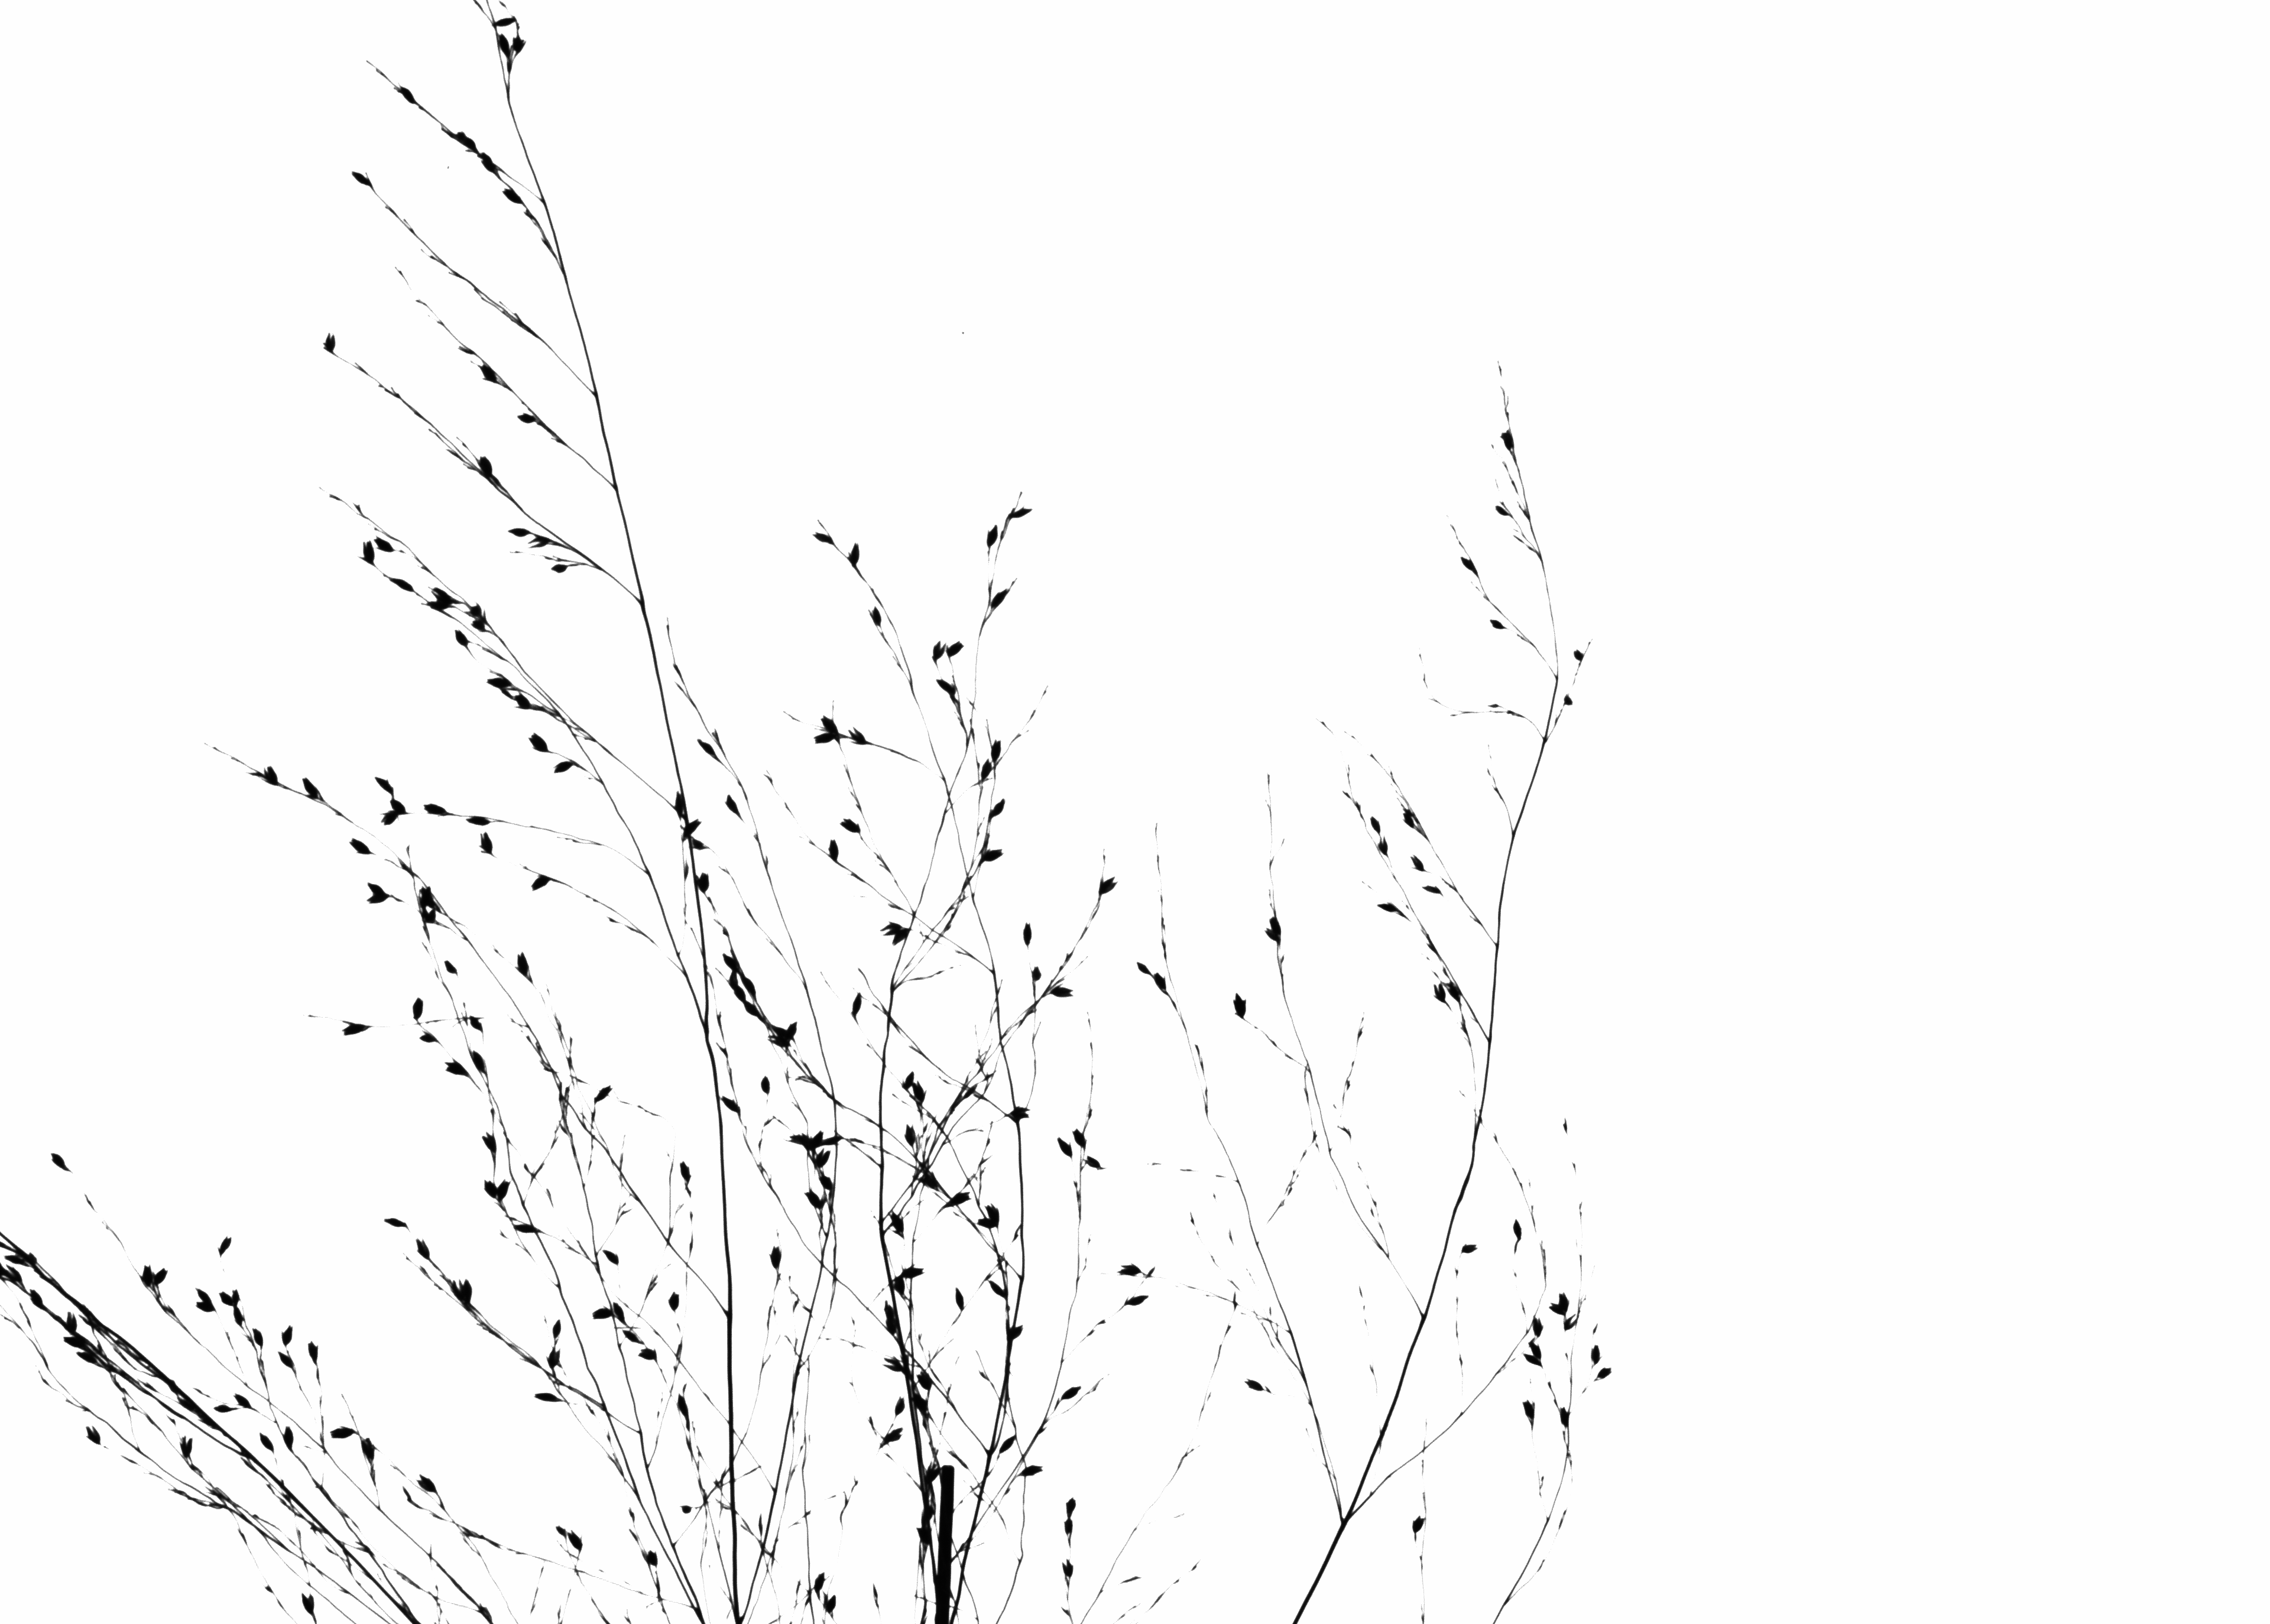seed: (1227, 986, 1252, 1023), (299, 773, 329, 801), (693, 735, 721, 765), (5, 1248, 37, 1274), (721, 791, 747, 823), (498, 183, 526, 211), (475, 359, 505, 385), (716, 1091, 744, 1118), (369, 772, 401, 794), (1398, 801, 1421, 833), (508, 1216, 545, 1236), (420, 798, 454, 819), (274, 1346, 299, 1374), (346, 165, 375, 190), (818, 710, 842, 738), (468, 1046, 491, 1076), (480, 1172, 501, 1204), (513, 947, 535, 979), (431, 582, 462, 603), (496, 32, 517, 63), (58, 1332, 95, 1350), (81, 1420, 105, 1446), (529, 870, 556, 895), (454, 127, 478, 153), (986, 585, 1011, 612), (883, 1297, 900, 1334), (995, 1431, 1020, 1457), (260, 759, 283, 787), (986, 794, 1009, 823), (1009, 1100, 1032, 1128), (415, 1236, 436, 1265), (477, 450, 498, 480), (886, 1207, 907, 1237), (1426, 977, 1447, 1007), (62, 1302, 81, 1334), (480, 149, 499, 181), (765, 1239, 784, 1271), (1016, 917, 1036, 949), (47, 1149, 72, 1174), (232, 1387, 257, 1411), (477, 1128, 501, 1153), (394, 83, 418, 107), (679, 816, 703, 840), (934, 675, 958, 700), (879, 1425, 904, 1450), (195, 1281, 218, 1308), (529, 729, 552, 756), (1060, 1378, 1083, 1404), (1097, 872, 1120, 898), (297, 1589, 318, 1617), (417, 1466, 438, 1494), (346, 837, 375, 858), (1053, 1135, 1074, 1164), (1241, 1374, 1270, 1396), (281, 1418, 299, 1452), (338, 1019, 371, 1037), (382, 1211, 411, 1230), (673, 1156, 693, 1186), (890, 1276, 909, 1306), (1124, 1292, 1153, 1311), (591, 1081, 615, 1104), (448, 626, 471, 650), (981, 844, 1006, 866), (948, 1186, 971, 1211), (1456, 552, 1479, 576), (675, 1388, 693, 1420), (533, 1388, 564, 1406), (513, 691, 535, 717), (484, 673, 519, 689), (322, 330, 343, 357), (879, 1352, 906, 1373), (1375, 898, 1401, 919), (550, 756, 578, 775), (742, 974, 761, 1002), (1115, 1260, 1143, 1280), (1517, 1397, 1537, 1425), (786, 1132, 819, 1148), (76, 1350, 105, 1367), (478, 831, 496, 861), (7, 1262, 28, 1287), (257, 1427, 278, 1452), (721, 949, 742, 974), (804, 1186, 825, 1211), (812, 728, 837, 749), (1008, 1320, 1029, 1345), (610, 1297, 629, 1323), (443, 1056, 469, 1076), (325, 1422, 357, 1438), (362, 536, 378, 568), (849, 990, 865, 1021), (304, 1334, 322, 1362), (362, 1431, 376, 1466), (461, 1272, 475, 1308), (464, 810, 492, 828), (1050, 982, 1078, 1000), (466, 1009, 487, 1032), (366, 879, 389, 900), (846, 724, 867, 747), (812, 527, 835, 548), (986, 1278, 1009, 1299), (1593, 1366, 1616, 1387), (637, 1345, 661, 1364), (390, 576, 415, 596), (510, 32, 529, 56), (1059, 1555, 1078, 1580), (549, 1309, 564, 1339), (181, 1434, 199, 1461), (216, 1230, 234, 1257), (280, 1320, 297, 1346), (566, 1526, 584, 1552), (666, 1285, 684, 1311), (373, 536, 399, 554), (818, 1169, 835, 1195), (913, 1083, 930, 1109), (985, 1200, 1002, 1227), (1375, 833, 1393, 859), (411, 991, 426, 1023), (742, 1000, 763, 1021), (670, 787, 684, 819), (890, 928, 911, 949), (990, 736, 1006, 765), (948, 636, 969, 657), (848, 538, 862, 569), (1447, 979, 1463, 1007), (1408, 1513, 1430, 1534), (603, 1244, 622, 1267), (378, 807, 401, 826), (840, 816, 863, 835), (930, 638, 949, 661), (1498, 429, 1517, 452), (1486, 615, 1509, 634), (1366, 812, 1386, 835), (1519, 1352, 1542, 1371), (193, 1299, 218, 1316), (151, 1264, 169, 1288), (441, 954, 459, 979), (809, 1127, 826, 1151), (879, 919, 904, 937), (1020, 1462, 1044, 1480), (1071, 1125, 1088, 1149), (547, 1343, 561, 1373), (985, 520, 999, 550), (811, 1566, 825, 1596), (953, 1283, 967, 1313), (1510, 1216, 1524, 1246), (498, 1176, 513, 1202), (784, 1018, 800, 1044), (902, 1123, 918, 1149), (902, 1264, 928, 1280), (1556, 1403, 1572, 1429), (216, 1288, 237, 1308), (390, 796, 410, 817), (1011, 503, 1032, 522), (916, 1369, 935, 1390), (1491, 503, 1512, 522), (1459, 1239, 1481, 1258), (250, 1325, 267, 1348), (213, 1397, 236, 1415), (1408, 852, 1426, 875), (826, 835, 840, 863), (978, 758, 992, 786), (1270, 910, 1284, 939), (30, 1285, 46, 1309), (232, 1304, 248, 1329), (141, 1258, 153, 1290), (696, 868, 712, 893), (818, 1149, 833, 1174), (1062, 1515, 1078, 1540), (468, 598, 485, 619), (550, 562, 571, 580), (689, 835, 707, 856), (974, 1216, 1000, 1230), (825, 1592, 839, 1619), (1155, 970, 1169, 997), (591, 1306, 614, 1322), (527, 534, 550, 550), (818, 1132, 840, 1148), (913, 1392, 928, 1415), (1064, 1494, 1080, 1517), (1586, 1343, 1602, 1366), (508, 524, 533, 538), (869, 605, 883, 629), (1556, 1288, 1570, 1313), (1547, 1299, 1565, 1318), (645, 1548, 661, 1570), (364, 893, 390, 905), (893, 1392, 906, 1418), (1085, 1153, 1102, 1171), (1134, 958, 1152, 975), (473, 615, 489, 634), (513, 411, 538, 424), (904, 1067, 916, 1091), (417, 1028, 438, 1042), (728, 968, 738, 997), (1421, 882, 1442, 896), (1530, 1315, 1544, 1336), (621, 1327, 638, 1343), (679, 1499, 695, 1517), (489, 18, 520, 26), (1568, 647, 1586, 663), (1561, 691, 1575, 710), (232, 1283, 244, 1304), (1030, 963, 1043, 982), (761, 1072, 770, 1097)
